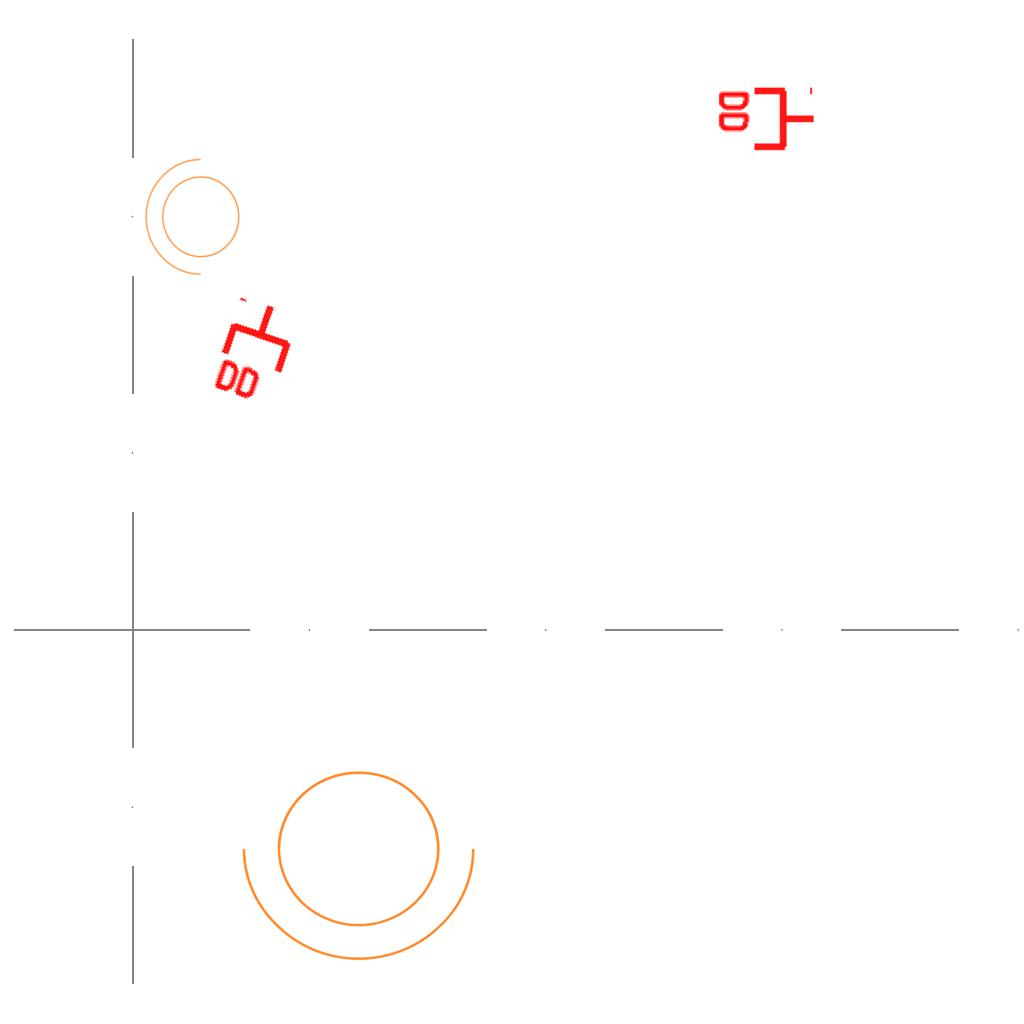Datenanschluss_zweifach: (207, 292, 306, 413), (714, 86, 817, 155)
Scheinwerfer_fuer_Alarmbeleuchtung: (233, 746, 497, 971), (140, 154, 252, 286)
